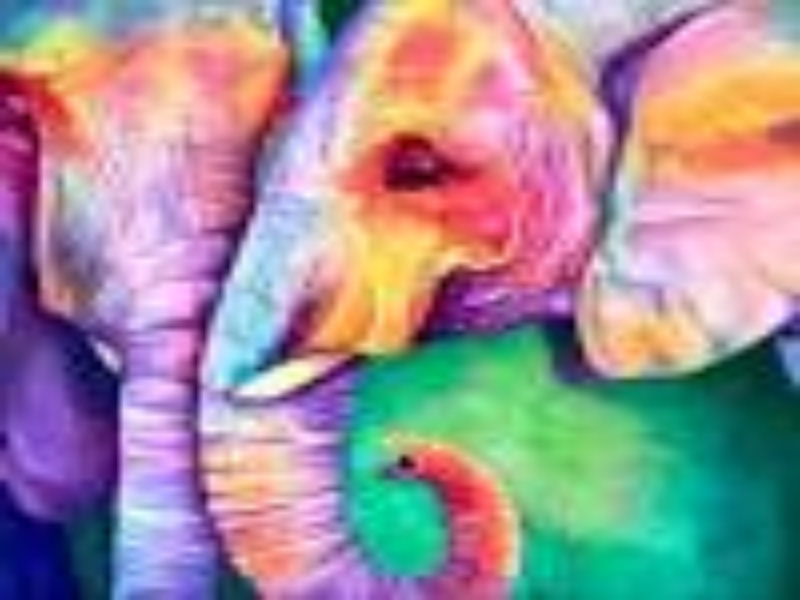elephant: (14, 6, 791, 586)
